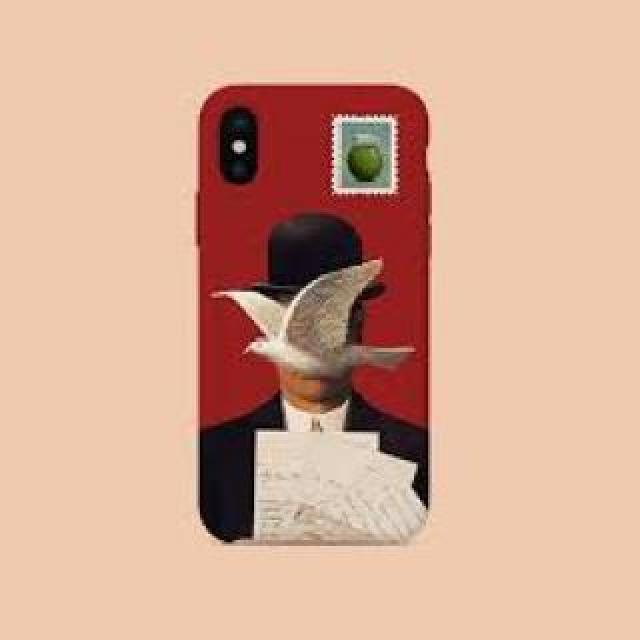smart phone: (185, 63, 520, 570)
